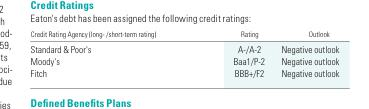table: (29, 29, 338, 78)
table column: (29, 29, 193, 78), (193, 29, 272, 78), (272, 29, 338, 78)
table column header: (29, 29, 338, 40)
table row: (29, 40, 338, 54), (29, 54, 338, 66), (29, 66, 338, 78), (29, 29, 338, 40)
